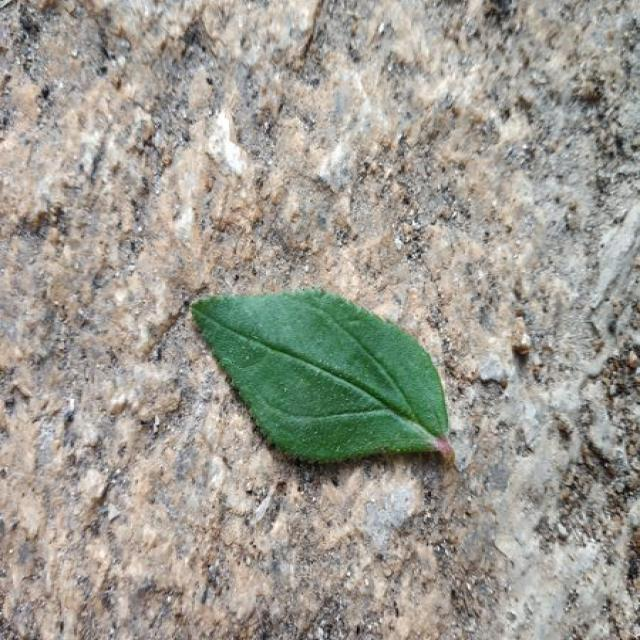Astma_weed: (192, 290, 453, 461)
